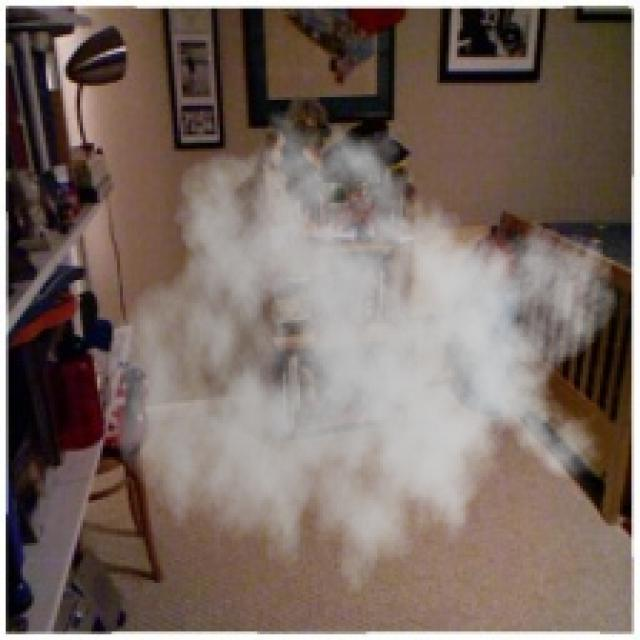smoke: (106, 97, 620, 620)
